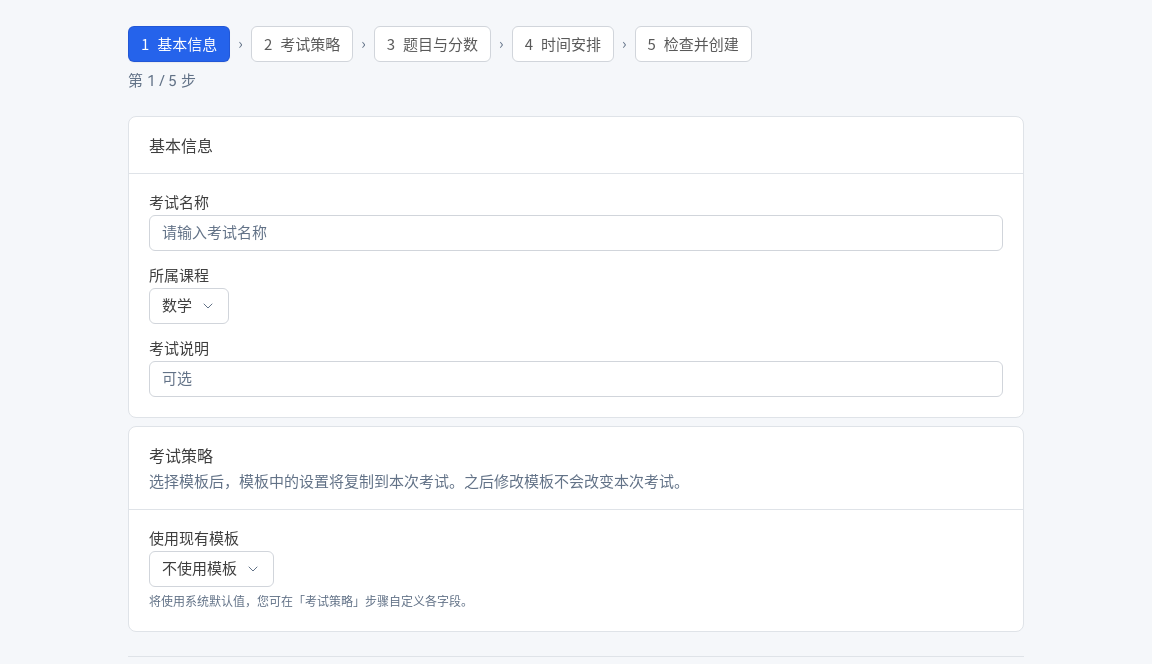
Test: ExamCreatePage wizard — step 3 (questions + scores) › opens the question picker dialog and adds a question
In the field with placeholder "请输入考试名称": (576, 233) [149,215,1003,251], type "Test Exam"
(page scrolled)
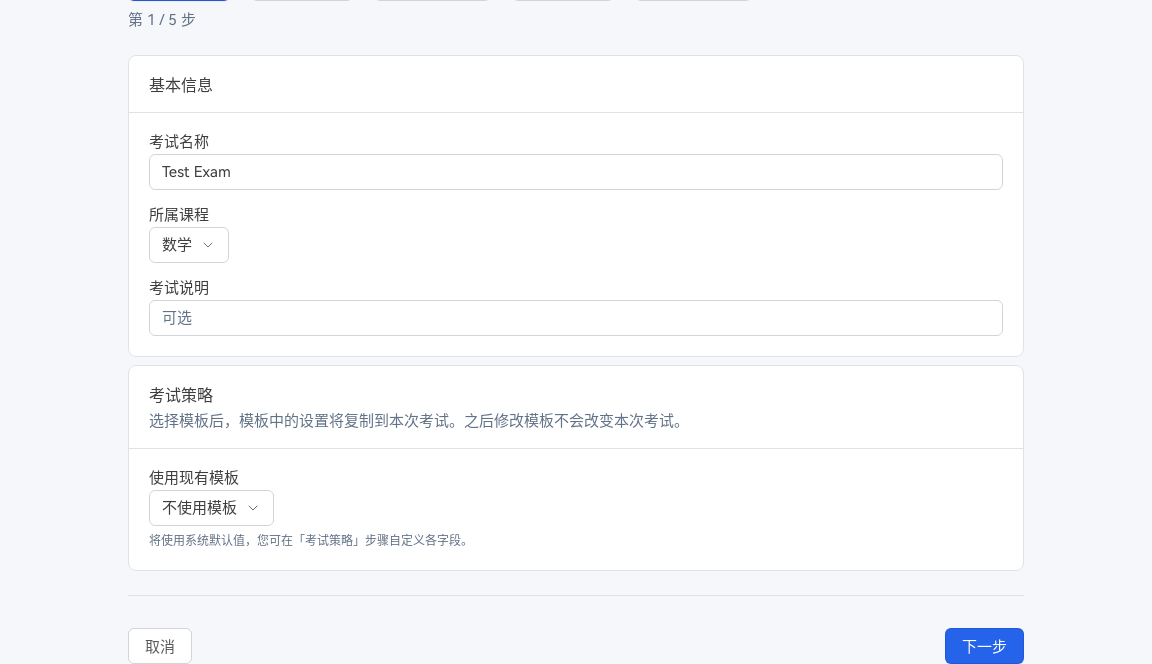
Click the button "下一步": (984, 646) [945,628,1024,663]
(page scrolled)
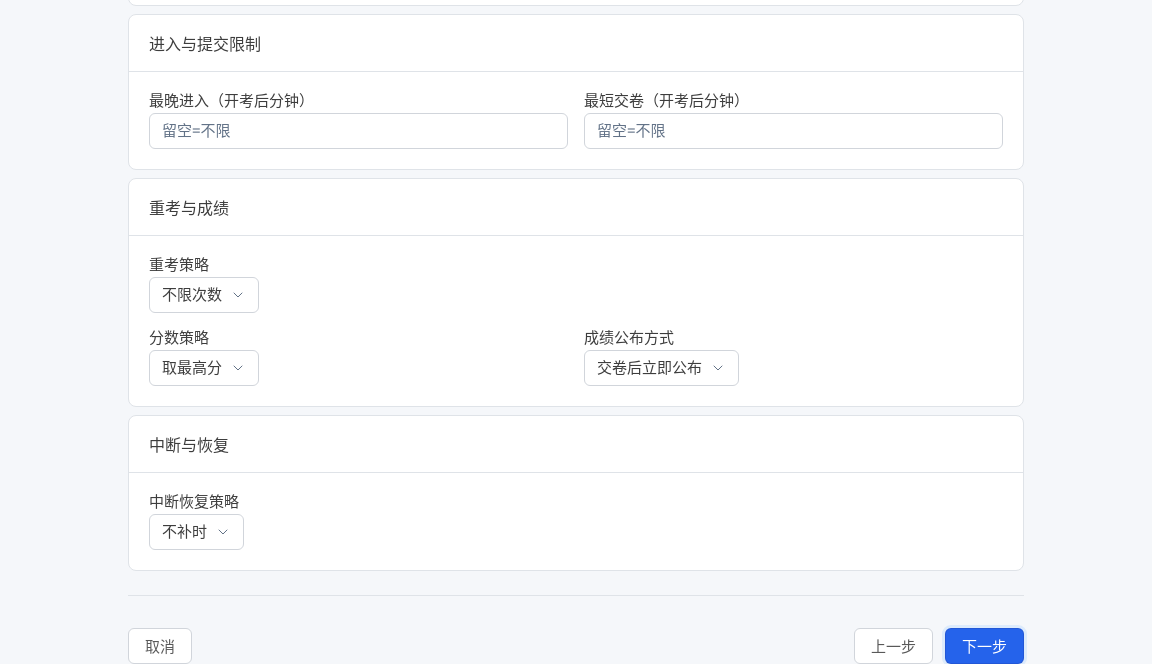
Click the button "下一步": (984, 646) [945,628,1024,663]
(page scrolled)
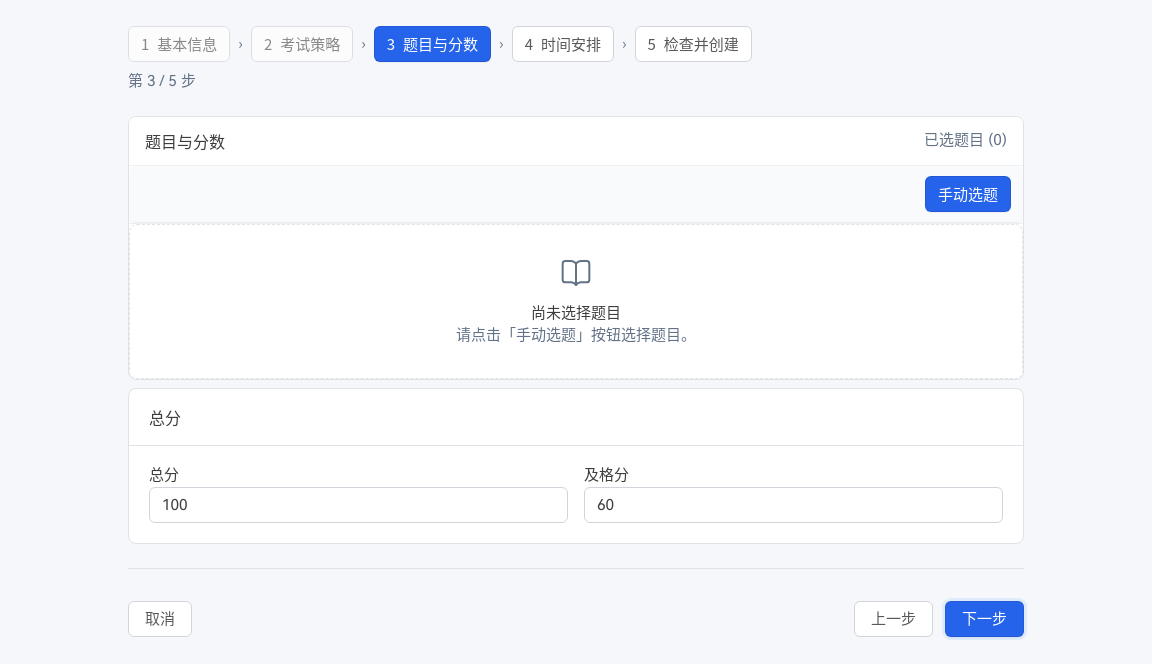
Result: the button "手动选题" is shown
Click the button "手动选题": (968, 194) [925,176,1011,212]
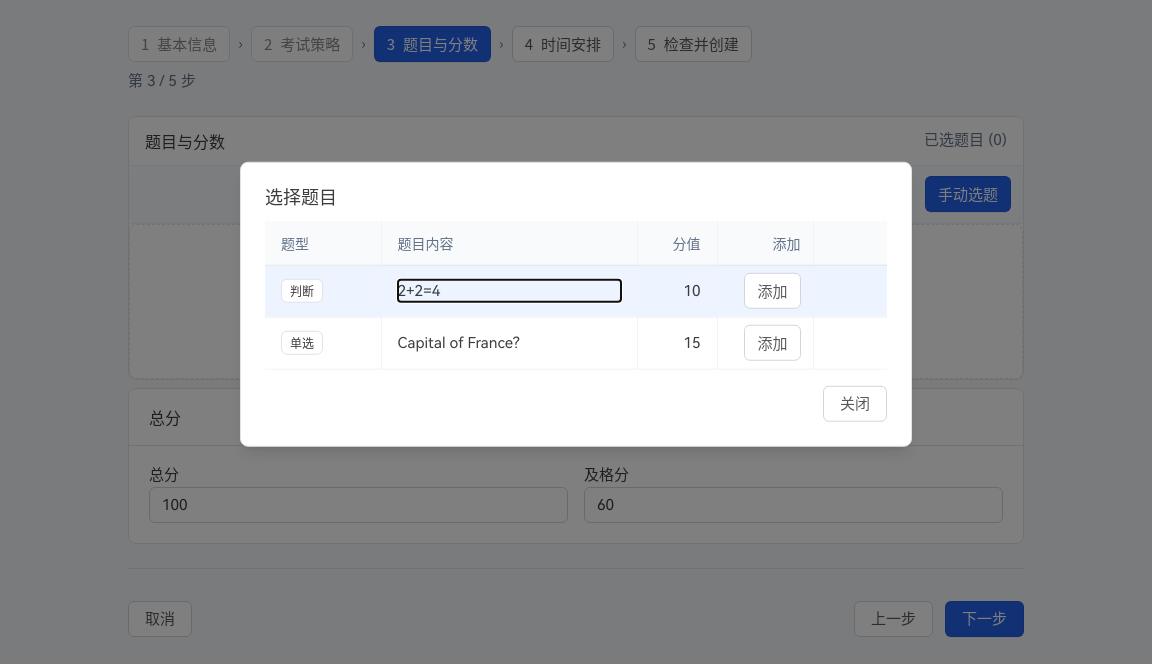
Result: the text "2+2=4" is shown at [398,282,440,300]
Click the button "添加" in the row of "判断": (772, 291) [744,273,800,309]
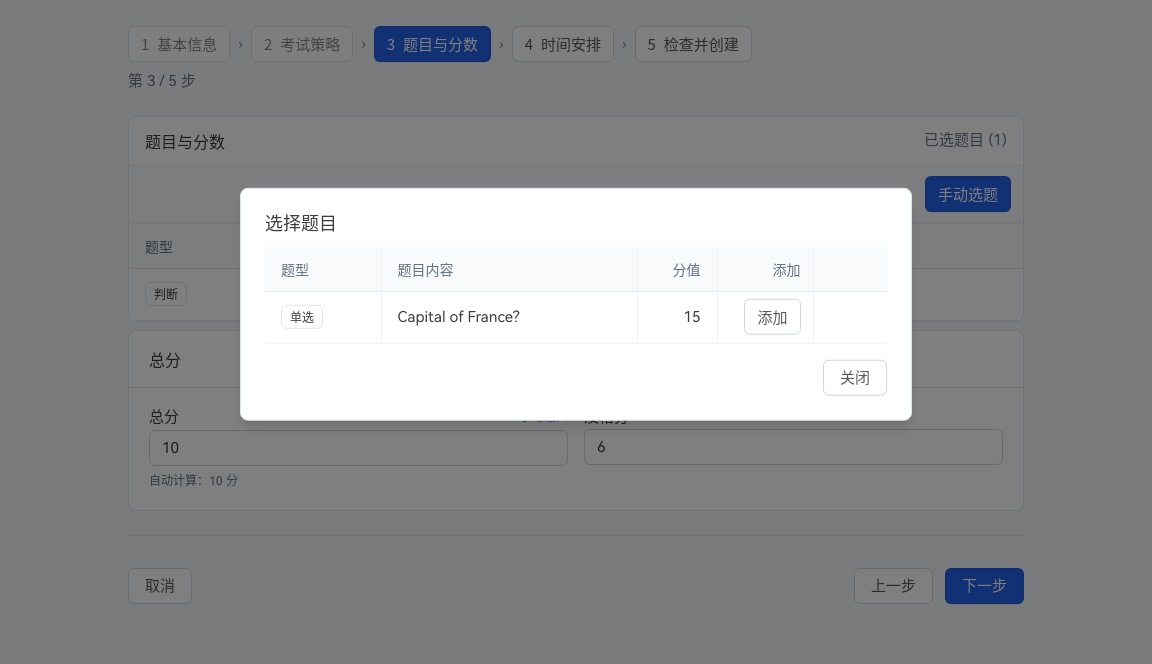
Result: the text "已选题目 (1)" is shown at [924,131,1007,149]
